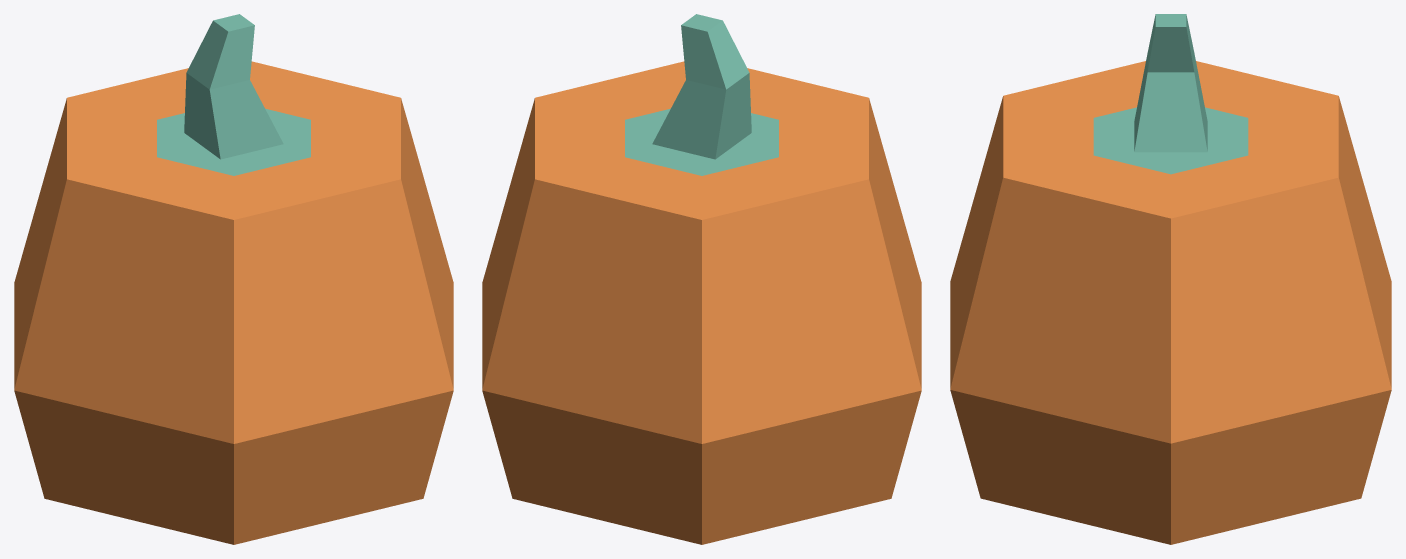
Rendered from pumpkinTall.fbx.
The picture shows the model from 3 angles, left to right: view 1: azimuth 30°, elevation 25°; view 2: azimuth 150°, elevation 25°; view 3: azimuth 270°, elevation 25°; orthographic projection.
Parts seen in each view (by area): view 1: pumpkinTall; view 2: pumpkinTall; view 3: pumpkinTall.
Boxes of the visible parts, left/top/right/bottom form: pumpkinTall: left=14, top=14, right=453, bottom=544; pumpkinTall: left=482, top=14, right=921, bottom=544; pumpkinTall: left=950, top=14, right=1391, bottom=544.
Bounding box in the file's own units: 2.78 × 2.6 × 2.41.
